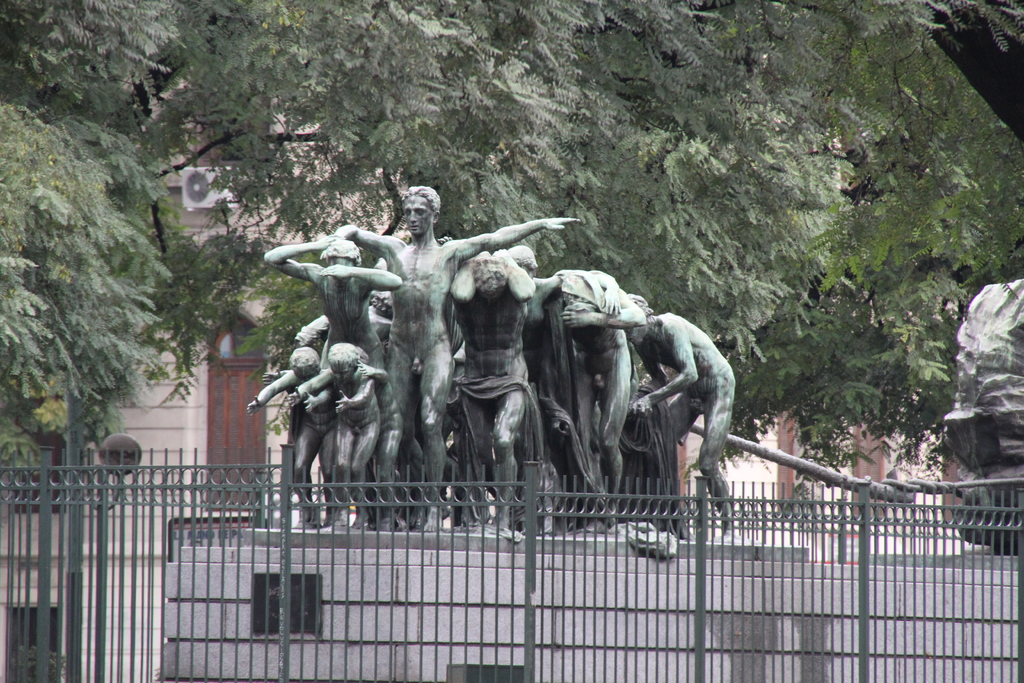Tree: (0, 0, 1023, 520), (0, 102, 174, 441)
